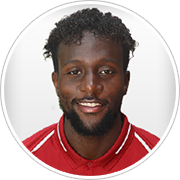smile: (73, 96, 110, 113)
